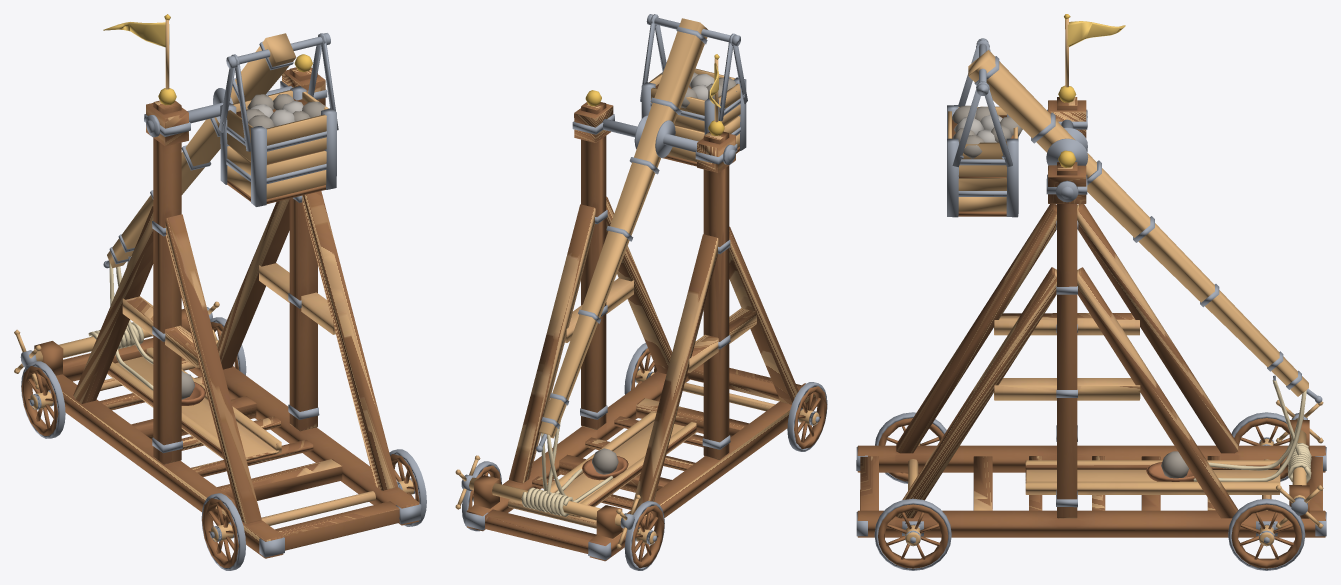
The picture shows the model from 3 angles, left to right: view 1: azimuth 30°, elevation 25°; view 2: azimuth 150°, elevation 25°; view 3: azimuth 270°, elevation 25°; orthographic projection. The views are drawn at different scales.
Visible parts, largest first — view 1: trebuchet_body, trebuchet_counterweight, trebuchet_fittings, trebuchet_arm, trebuchet_wheel_front_left, trebuchet_wheel_rear_left, trebuchet_sling, trebuchet_wheel_front_right; view 2: trebuchet_body, trebuchet_arm, trebuchet_fittings, trebuchet_counterweight, trebuchet_wheel_front_left, trebuchet_wheel_rear_left, trebuchet_sling, trebuchet_wheel_front_right, trebuchet_wheel_rear_right; view 3: trebuchet_body, trebuchet_arm, trebuchet_counterweight, trebuchet_fittings, trebuchet_wheel_front_right, trebuchet_wheel_rear_right, trebuchet_sling, trebuchet_wheel_rear_left, trebuchet_wheel_front_left.
Boxes of the visible parts, bbox=[...] form: trebuchet_body: bbox=[32, 67, 419, 558]; trebuchet_counterweight: bbox=[218, 33, 338, 206]; trebuchet_fittings: bbox=[14, 14, 421, 557]; trebuchet_arm: bbox=[103, 33, 330, 268]; trebuchet_wheel_front_left: bbox=[201, 493, 245, 570]; trebuchet_wheel_rear_left: bbox=[21, 361, 65, 438]; trebuchet_sling: bbox=[109, 262, 205, 405]; trebuchet_wheel_front_right: bbox=[389, 449, 426, 526]; trebuchet_body: bbox=[466, 102, 817, 561]; trebuchet_arm: bbox=[536, 14, 740, 452]; trebuchet_fittings: bbox=[455, 54, 816, 560]; trebuchet_counterweight: bbox=[640, 14, 747, 166]; trebuchet_wheel_front_left: bbox=[787, 382, 827, 451]; trebuchet_wheel_rear_left: bbox=[624, 501, 664, 570]; trebuchet_sling: bbox=[541, 433, 628, 502]; trebuchet_wheel_front_right: bbox=[624, 343, 657, 394]; trebuchet_wheel_rear_right: bbox=[462, 461, 501, 531]; trebuchet_body: bbox=[857, 97, 1325, 537]; trebuchet_arm: bbox=[968, 38, 1322, 403]; trebuchet_counterweight: bbox=[947, 40, 1022, 217]; trebuchet_fittings: bbox=[856, 14, 1326, 536]; trebuchet_wheel_front_right: bbox=[874, 498, 951, 570]; trebuchet_wheel_rear_right: bbox=[1228, 498, 1305, 570]; trebuchet_sling: bbox=[1146, 390, 1306, 481]; trebuchet_wheel_rear_left: bbox=[1231, 412, 1289, 481]; trebuchet_wheel_front_left: bbox=[875, 412, 946, 483].
Size of the model in its own units: 3.32 by 7.56 by 6.72.
10 materials, 1 textured.
